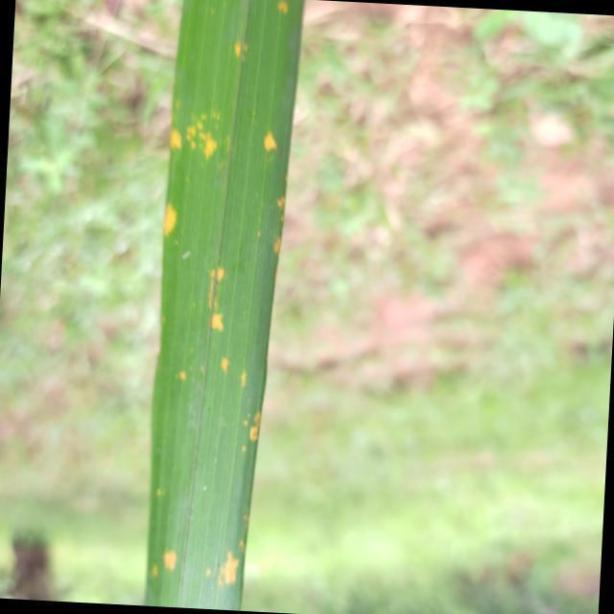Kalium: (142, 3, 303, 614)
